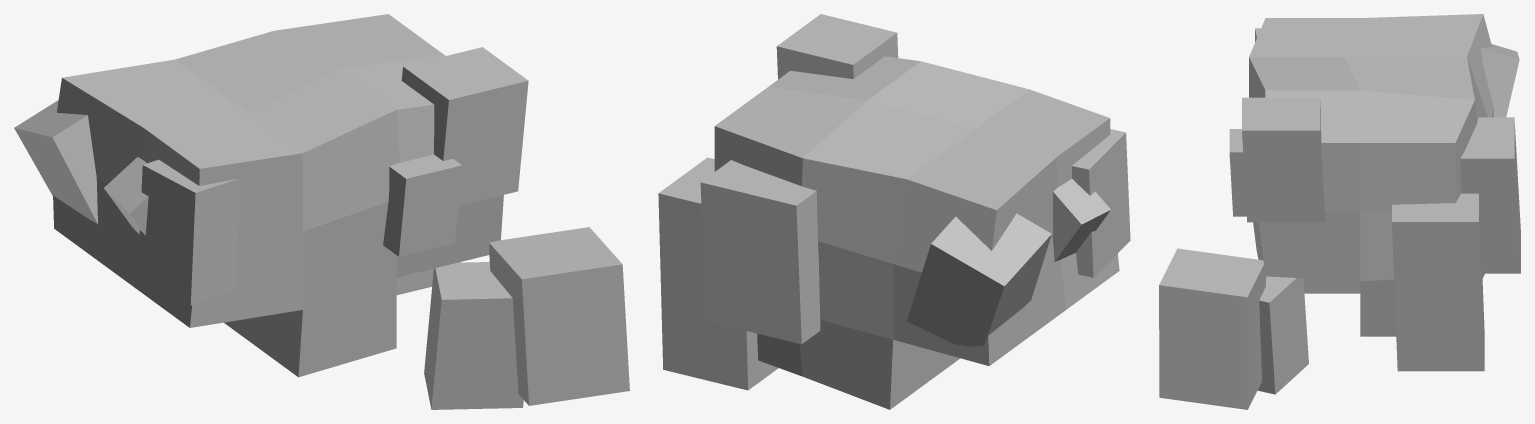
Rendered from LightStoneDecorationLargeStoneCluster1.fbx.
The picture shows the model from 3 angles, left to right: view 1: azimuth 30°, elevation 25°; view 2: azimuth 150°, elevation 25°; view 3: azimuth 270°, elevation 25°; orthographic projection. The views are drawn at different scales.
Parts seen in each view (by area): view 1: LightStoneDecorationLargeStoneCluster1; view 2: LightStoneDecorationLargeStoneCluster1; view 3: LightStoneDecorationLargeStoneCluster1.
Boxes of the visible parts, left/top/right/bottom form: LightStoneDecorationLargeStoneCluster1: left=14, top=14, right=629, bottom=409; LightStoneDecorationLargeStoneCluster1: left=658, top=14, right=1130, bottom=409; LightStoneDecorationLargeStoneCluster1: left=1159, top=14, right=1520, bottom=409.
Size of the model in its own units: 890 by 606 by 762.
1 material, 1 textured.
